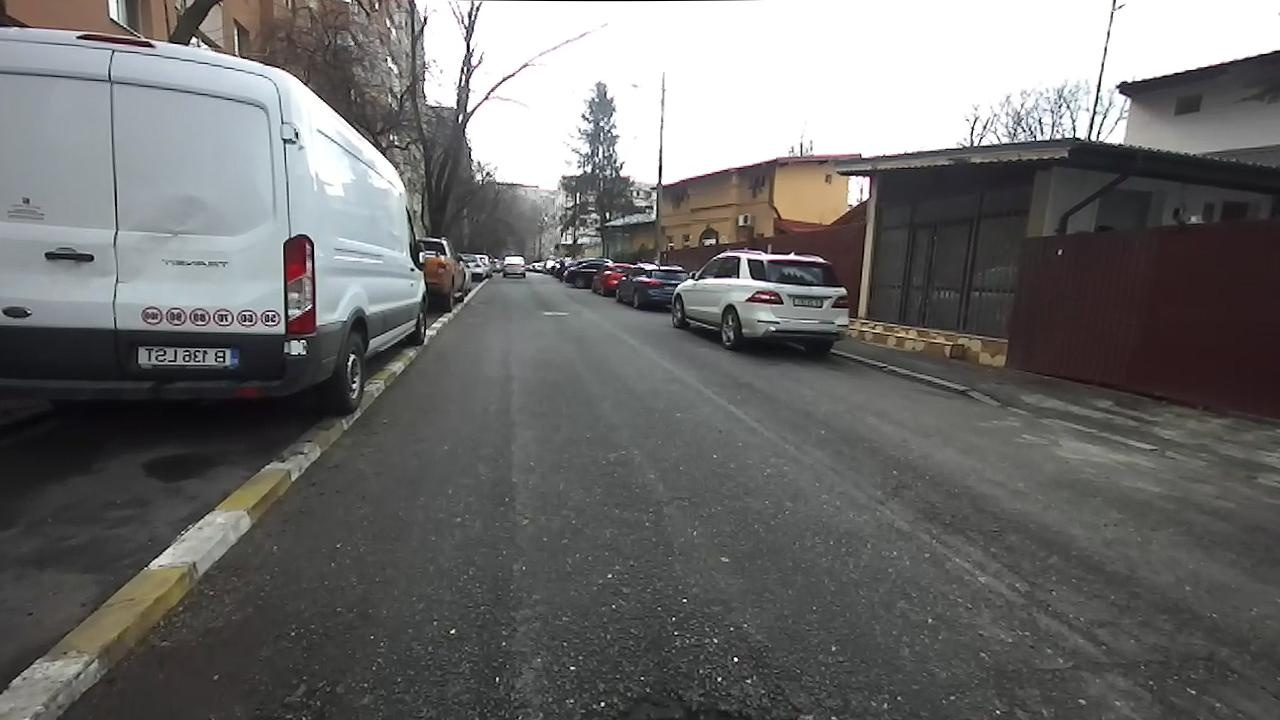pothole: (568, 700, 797, 719)
